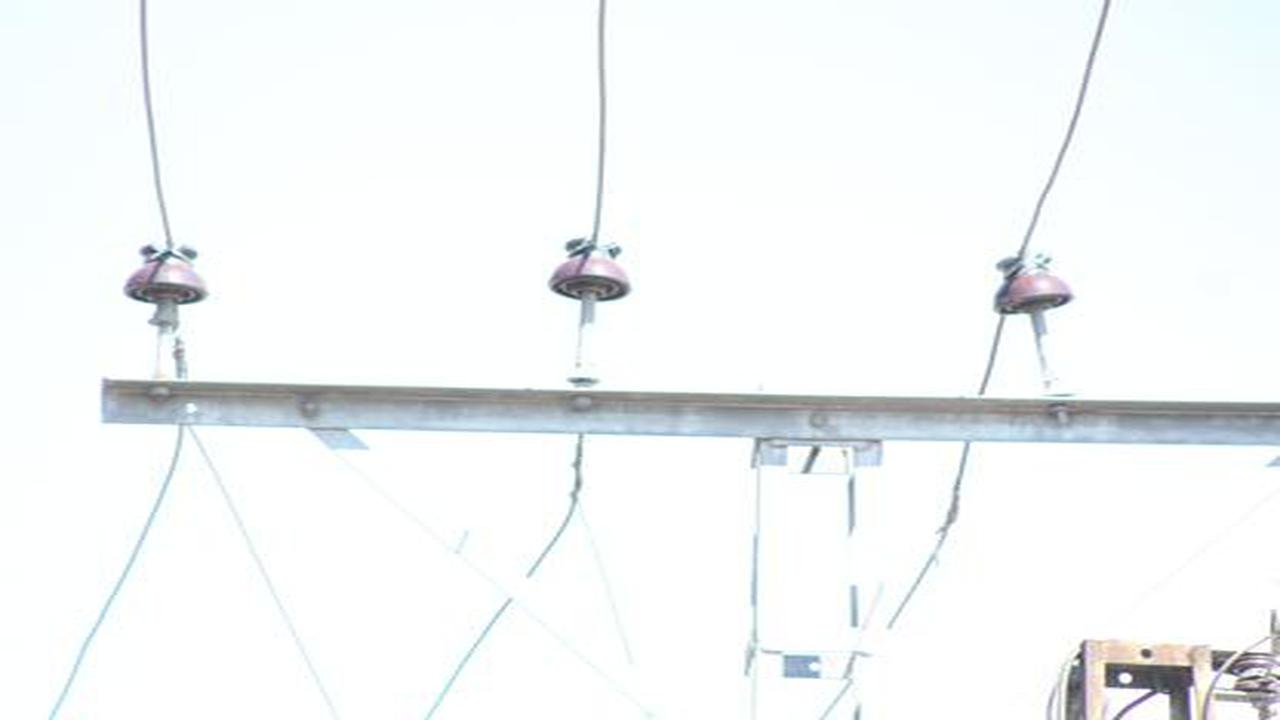insulator_pin: (986, 251, 1079, 321), (547, 235, 632, 309), (122, 239, 208, 306)
